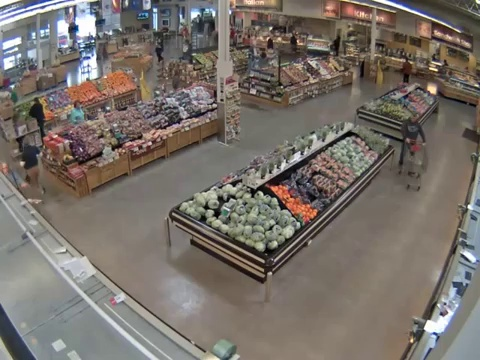face: (409, 114, 419, 123)
